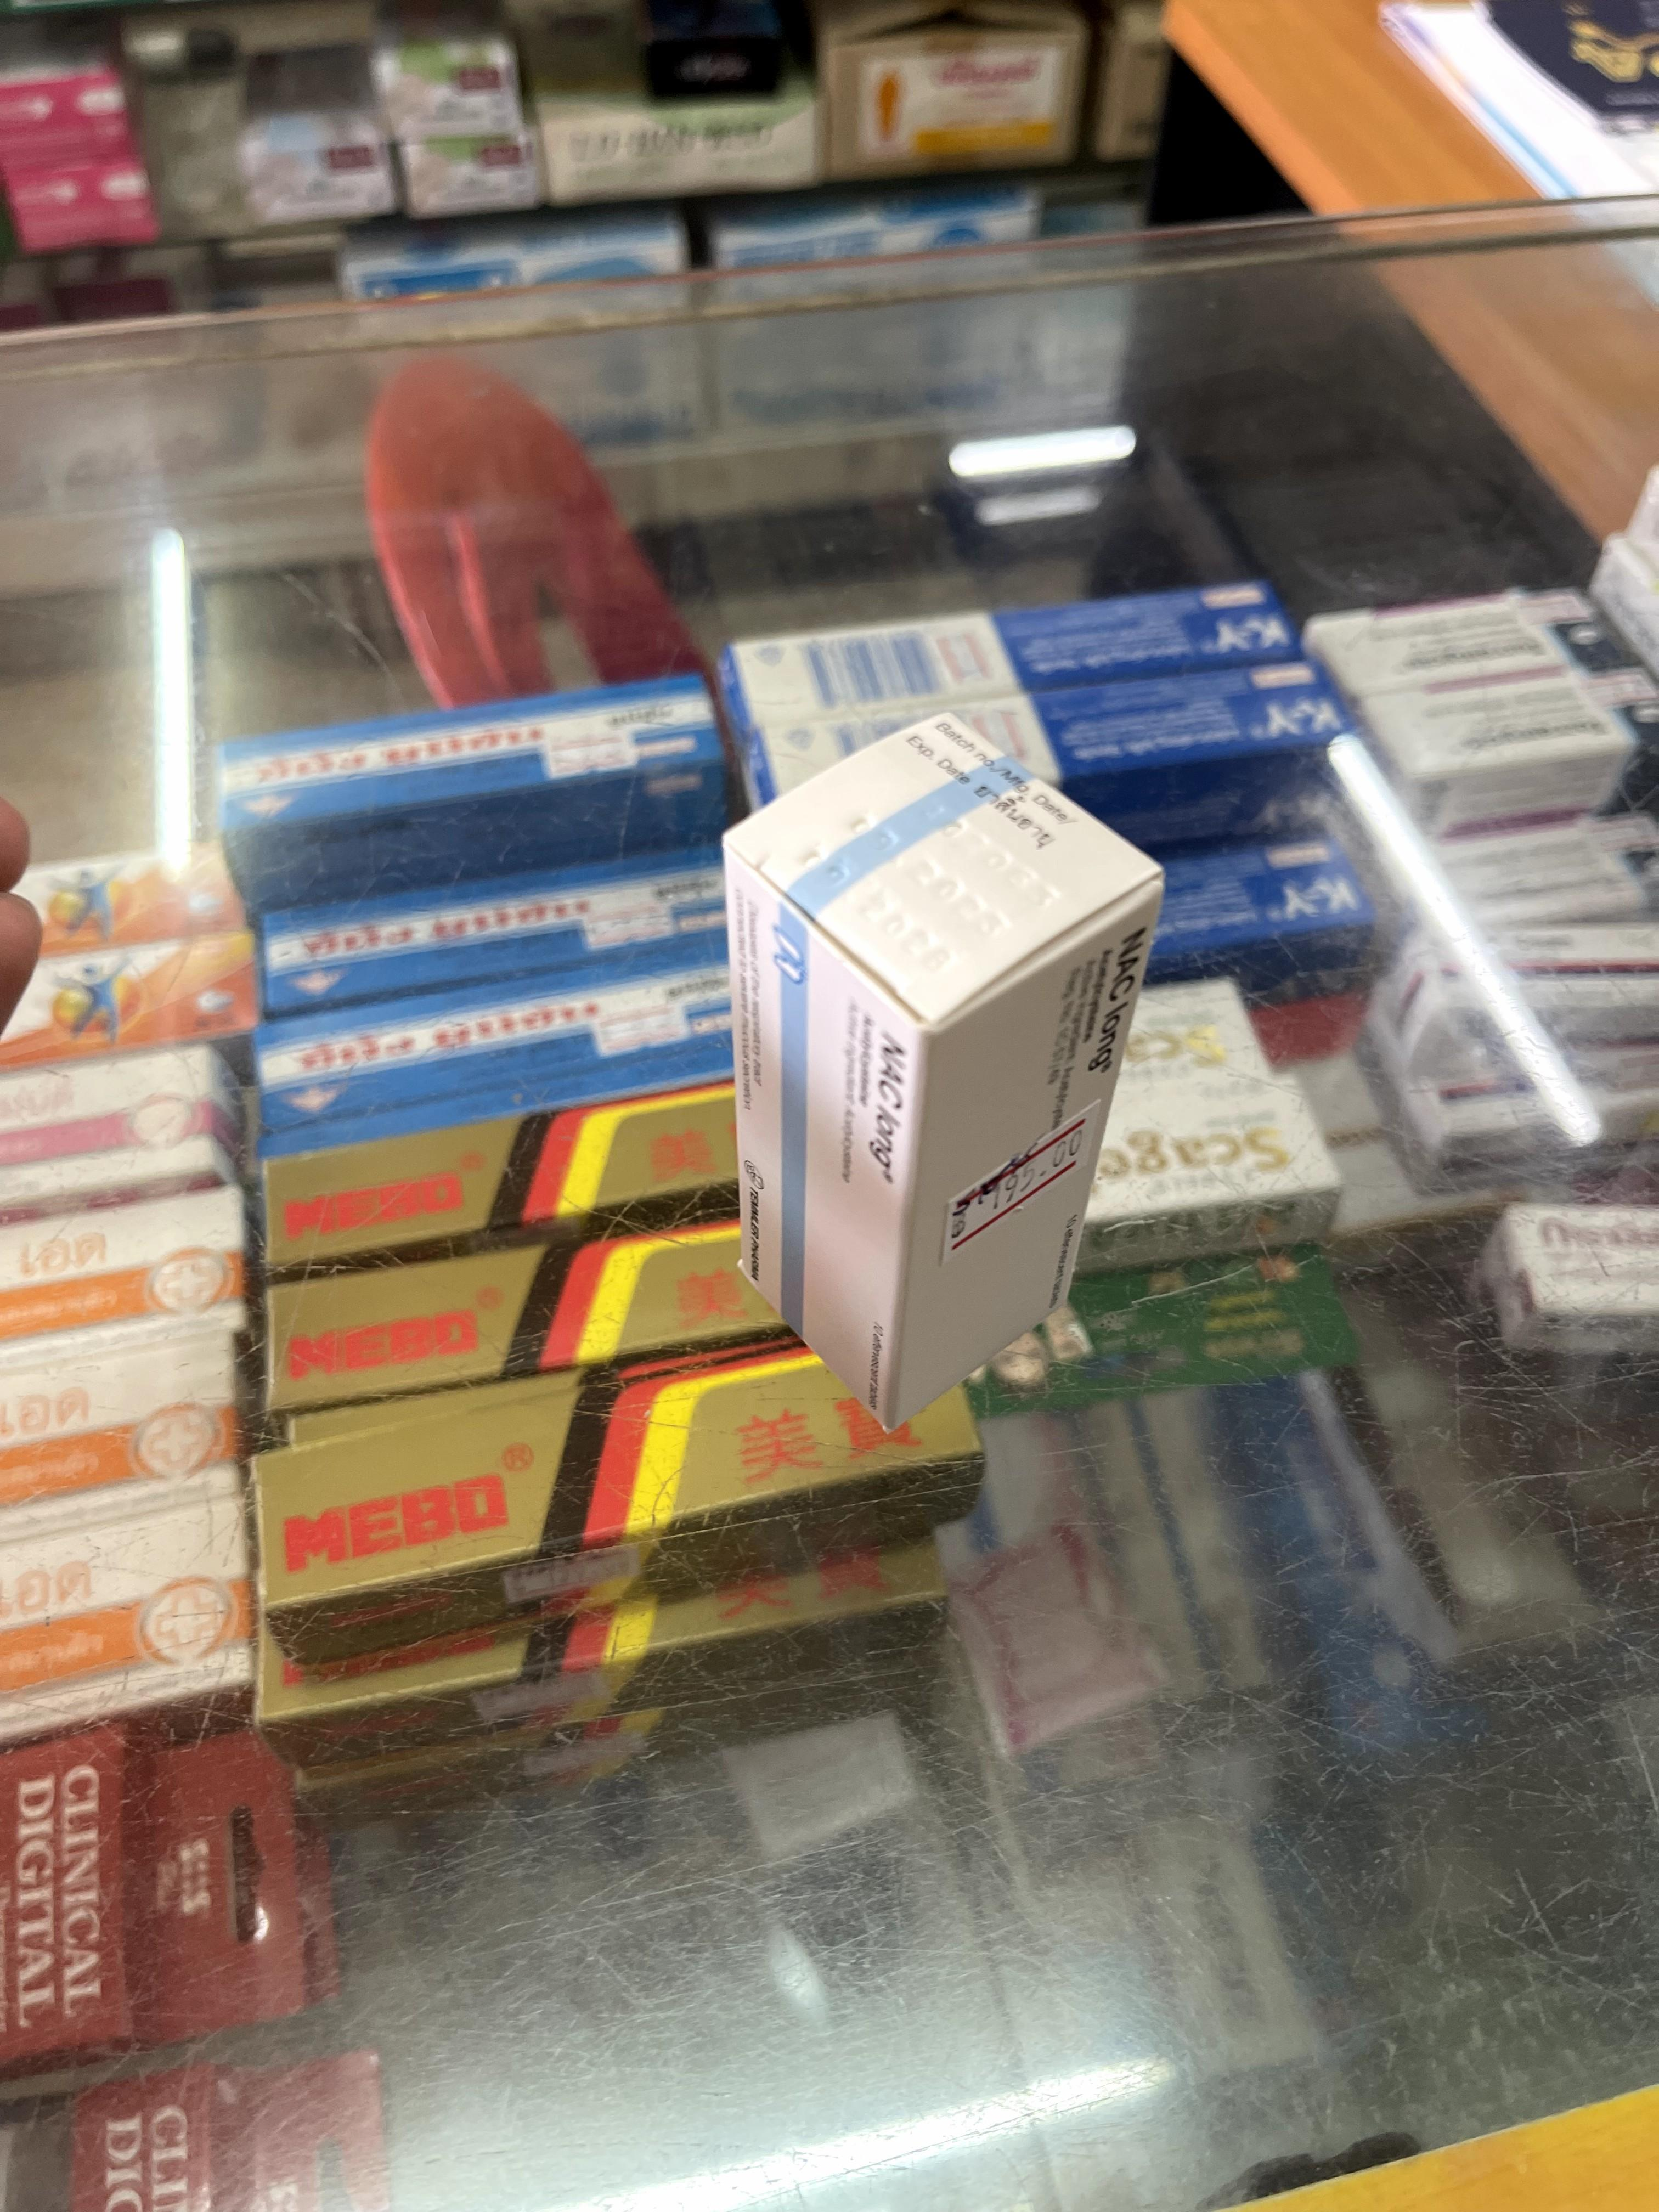Nac-Long: (718, 716, 1162, 1421)
